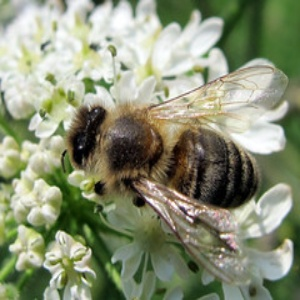bee: (70, 61, 291, 284)
